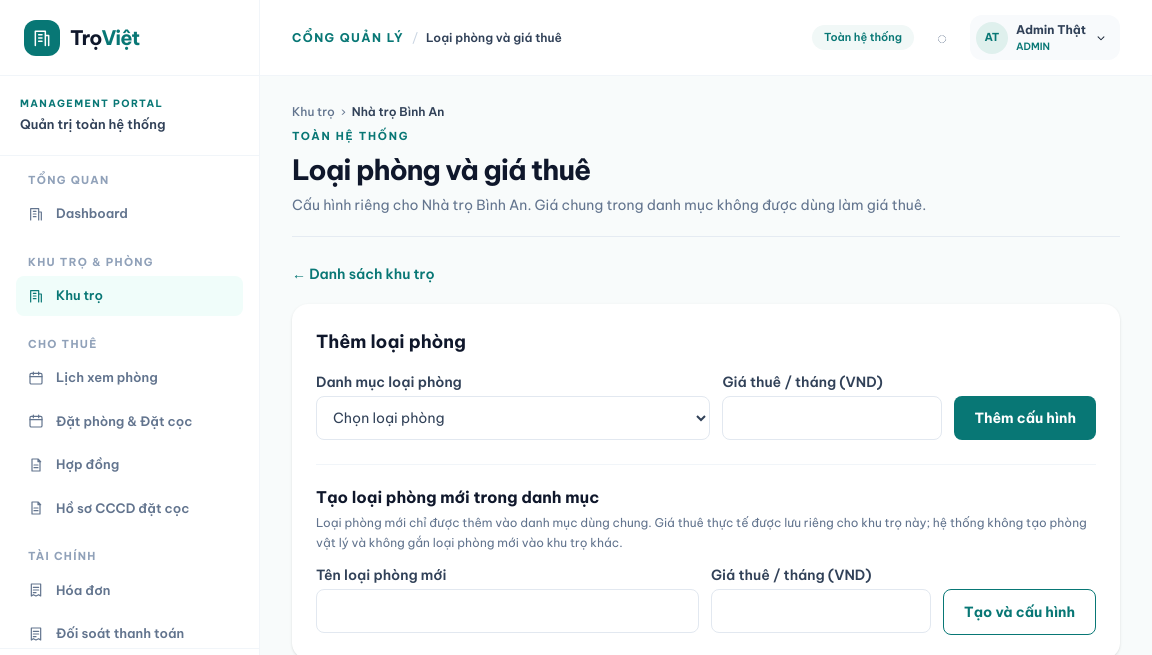
Test case: management property room types › retries only the property configuration after the catalog type was created
Type "Phòng VIP" into the field labelled "Tên loại phòng mới" at {"x": 508, "y": 610}, box [316,588,699,632]
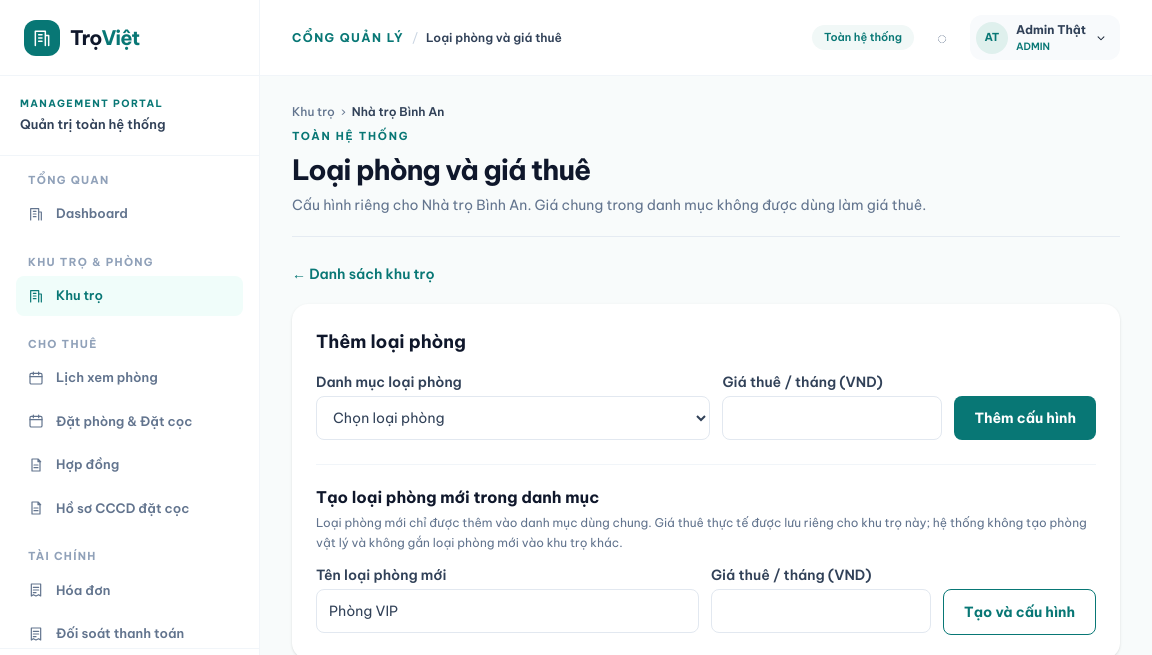
Type "6000000" into the number field named "Giá thuê loại phòng mới" at {"x": 821, "y": 610}, box [711,588,931,632]
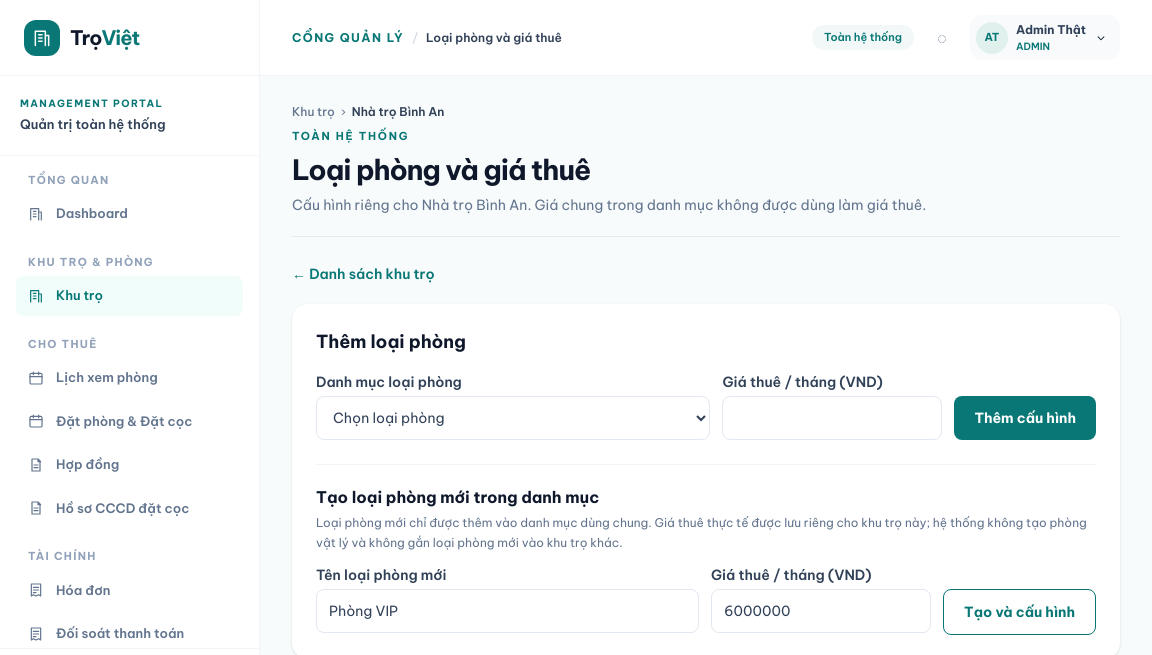
Click the button "Tạo và cấu hình" at {"x": 1020, "y": 612}, box [943,588,1096,634]
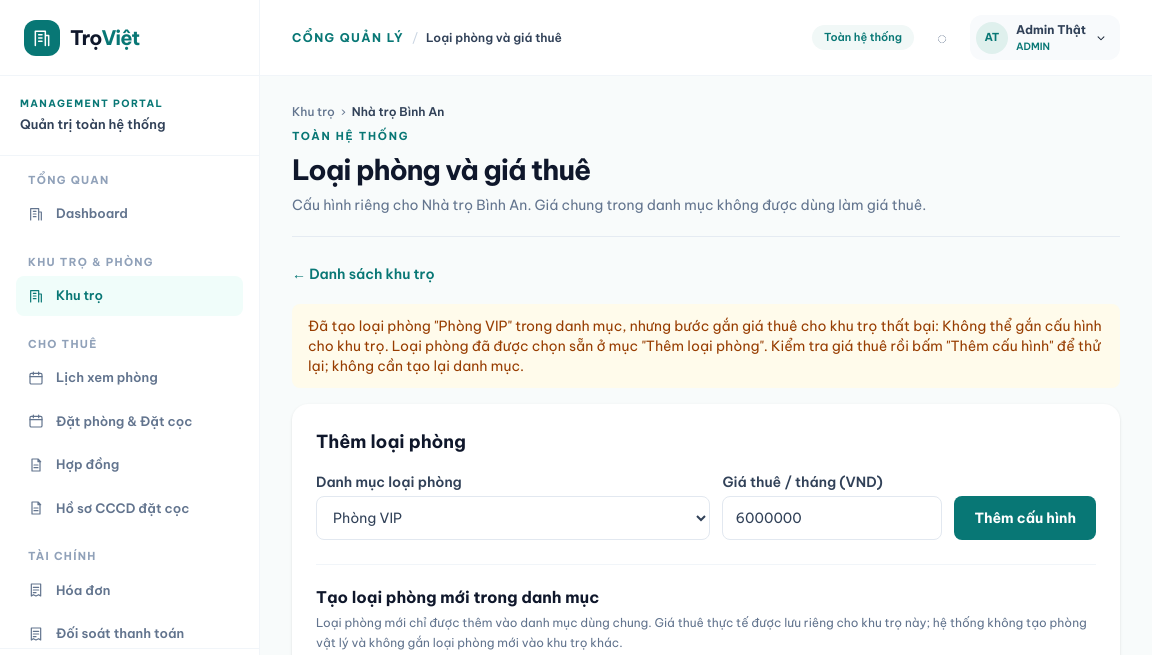
Now the text "bước gắn giá thuê cho khu trọ thất bại: Không thể gắn cấu hình cho khu trọ" is shown, box [308,316,1102,374]
Now the dropdown labelled "Danh mục loại phòng" shows "Phòng VIP", box [316,496,710,540]
Now the number field named "Giá thuê mới" holds "6000000", box [722,496,942,540]
Click the button "Thêm cấu hình" at {"x": 1025, "y": 518}, box [954,496,1096,540]
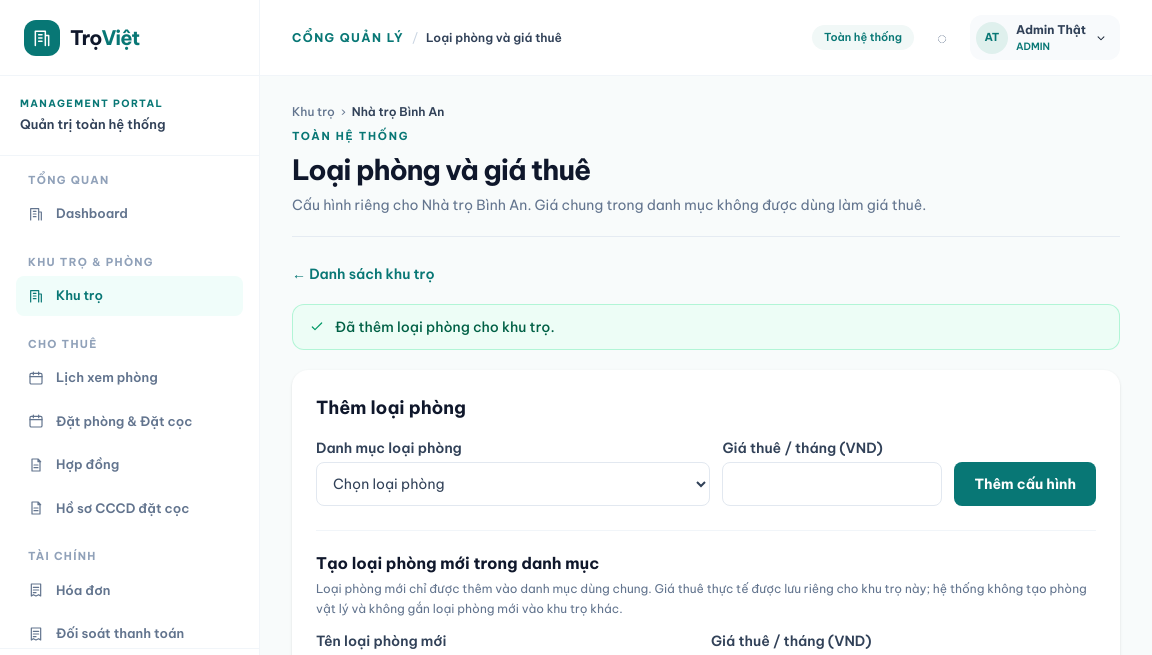
Now the text "Đã thêm loại phòng cho khu trọ." is shown, box [335,316,555,336]
